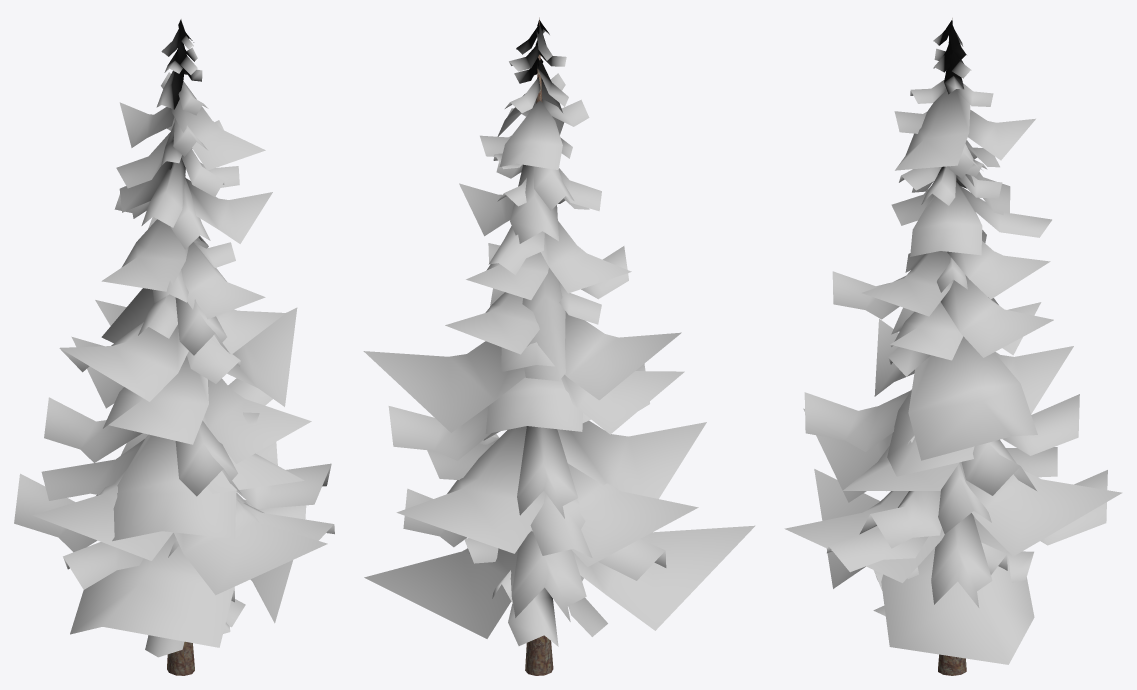
File: Fol_SpruceC.FBX
The picture shows the model from 3 angles, left to right: view 1: azimuth 30°, elevation 25°; view 2: azimuth 150°, elevation 25°; view 3: azimuth 270°, elevation 25°; orthographic projection.
Visible parts, largest first — view 1: Spruce3_Needles, Spruce3_Trunk; view 2: Spruce3_Needles, Spruce3_Trunk; view 3: Spruce3_Needles, Spruce3_Trunk.
Boxes of the visible parts, left/top/right/bottom form: Spruce3_Needles: left=14, top=19, right=334, bottom=657; Spruce3_Trunk: left=167, top=19, right=194, bottom=675; Spruce3_Needles: left=363, top=20, right=755, bottom=646; Spruce3_Trunk: left=525, top=17, right=553, bottom=675; Spruce3_Needles: left=784, top=20, right=1122, bottom=664; Spruce3_Trunk: left=938, top=18, right=966, bottom=675.
Bounding box in the file's own units: 692 × 1438 × 673.
